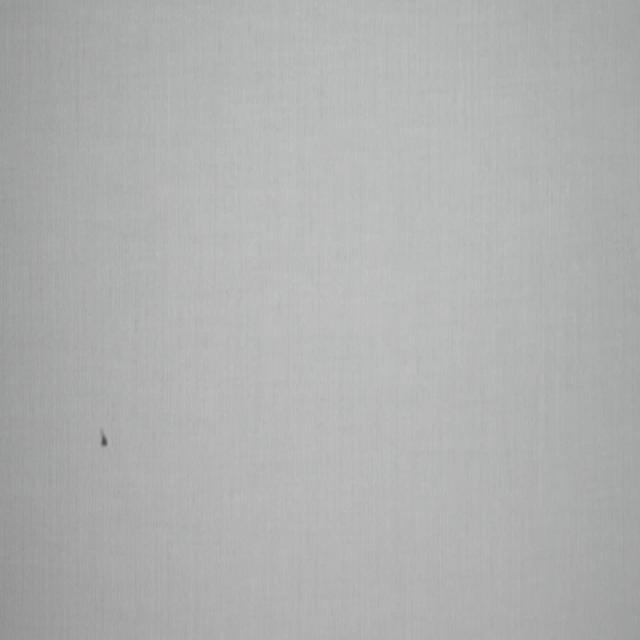dirty: (99, 430, 108, 450)
